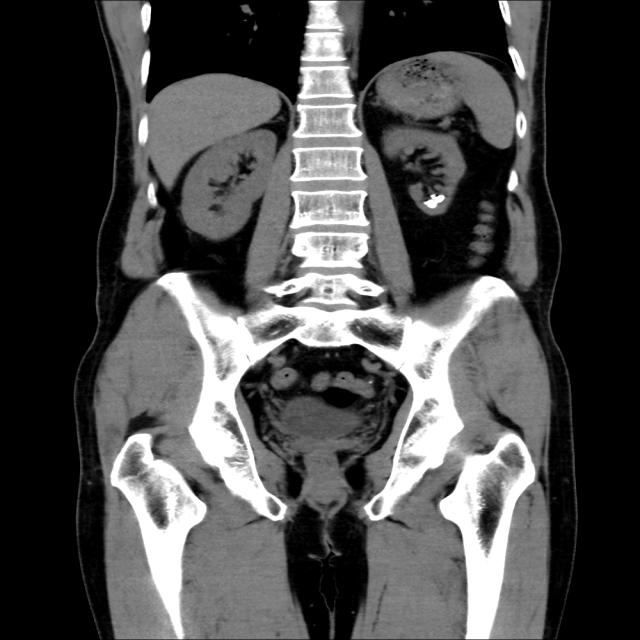kidneystone: (432, 194, 444, 210), (425, 199, 438, 209)
